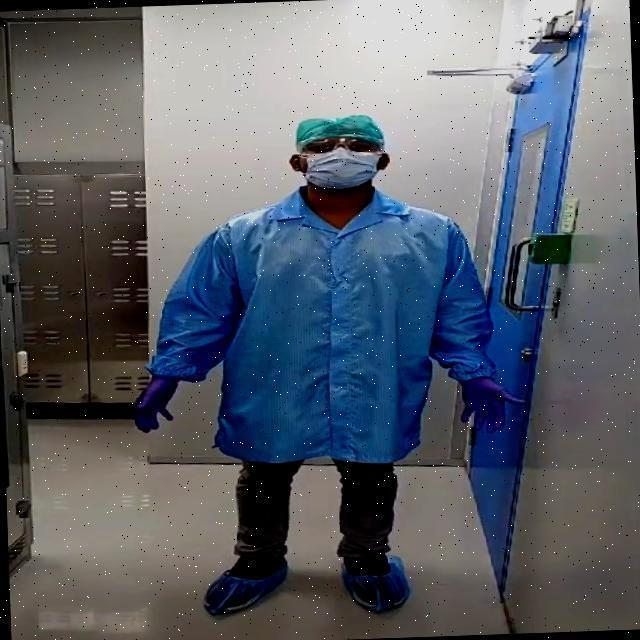apron: (118, 370, 180, 436), (459, 379, 527, 439)
